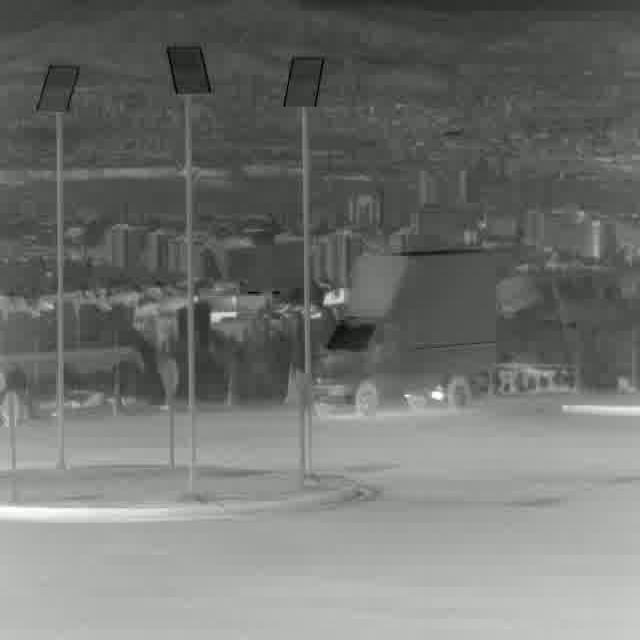Car: (312, 251, 496, 412)
